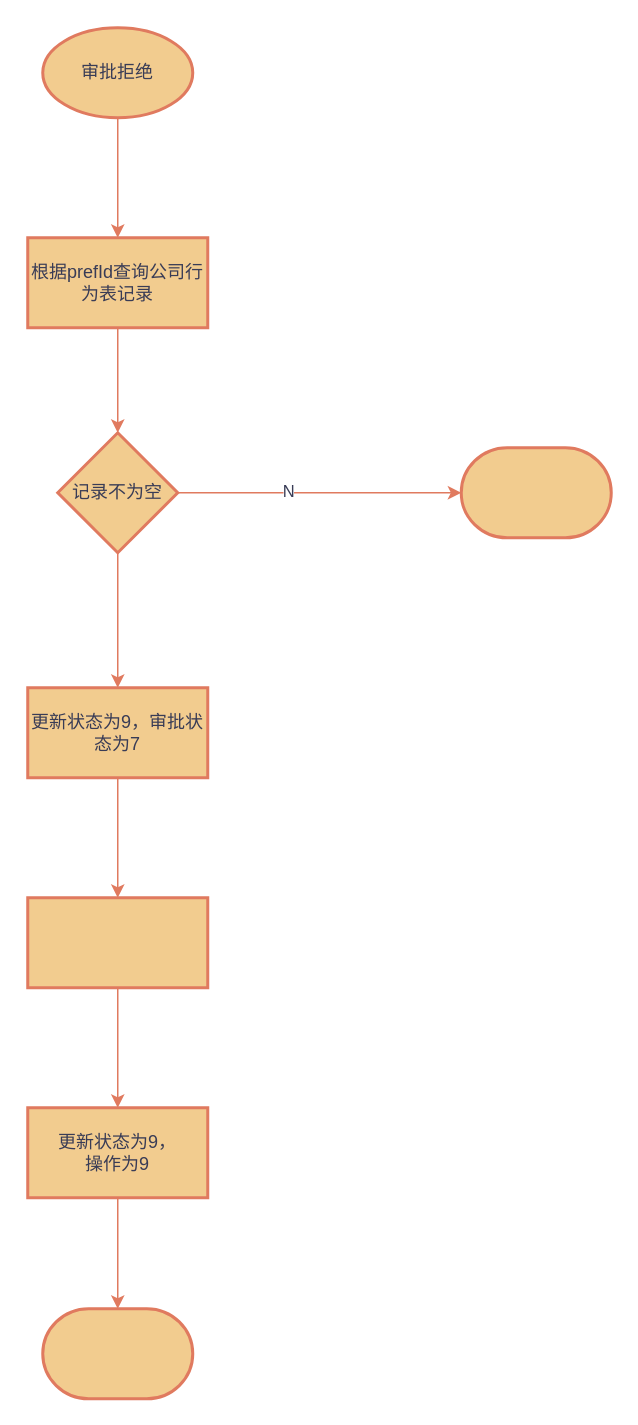
Image size: 638x1425. Some labels were removed from this diagram. Here are the shapes that lost their labels. From the top down, the centre of each, then its label:
the point at 535,492: 抛异常
the point at 117,942: 根据prefId查询限额记录表记录
the point at 117,1353: 结束
